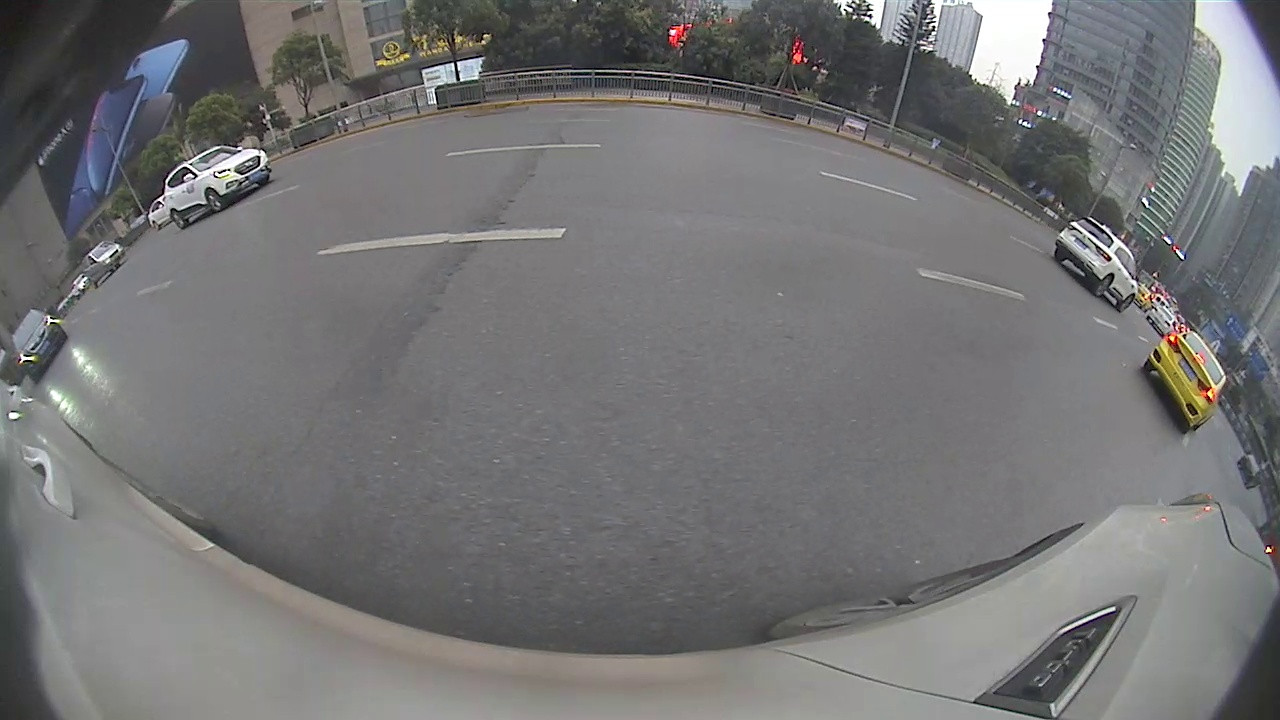car: (1144, 298, 1229, 436), (162, 143, 274, 230), (1054, 215, 1140, 315), (9, 307, 68, 385), (81, 236, 126, 289)
front: (205, 189, 223, 214), (1117, 294, 1135, 314)
rear: (1095, 272, 1114, 301), (169, 211, 189, 232)
